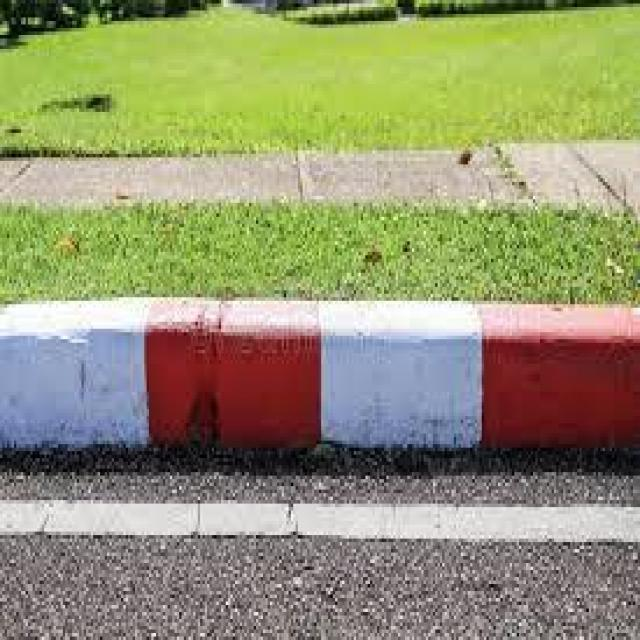curb: (5, 297, 640, 452)
